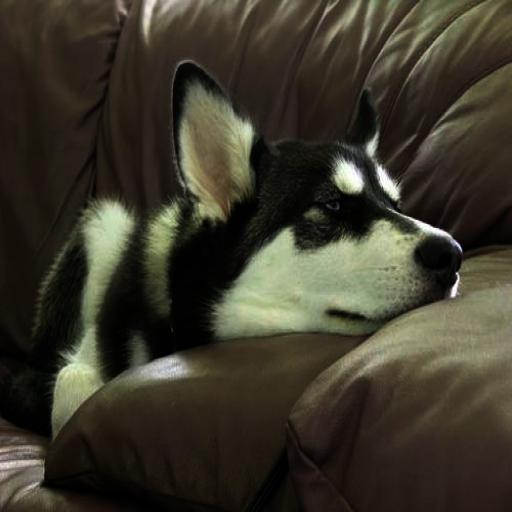dog_face: (166, 53, 464, 340)
